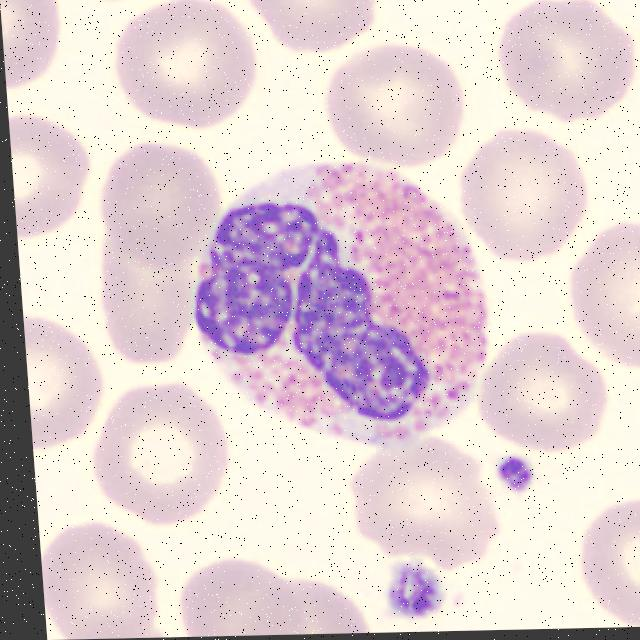eosinophil: (174, 149, 497, 452)
platelets: (367, 545, 445, 625), (493, 453, 532, 496)
rbc: (69, 373, 250, 534), (341, 435, 515, 573), (446, 125, 594, 269), (108, 0, 261, 134), (316, 37, 469, 171), (476, 0, 640, 124), (471, 328, 614, 458), (79, 140, 215, 275), (84, 232, 200, 367), (22, 293, 115, 461), (39, 519, 161, 640), (168, 547, 318, 637), (558, 206, 640, 370), (558, 486, 640, 628), (9, 115, 91, 249), (231, 564, 373, 636), (242, 0, 389, 61), (0, 0, 68, 89), (58, 602, 177, 639)
